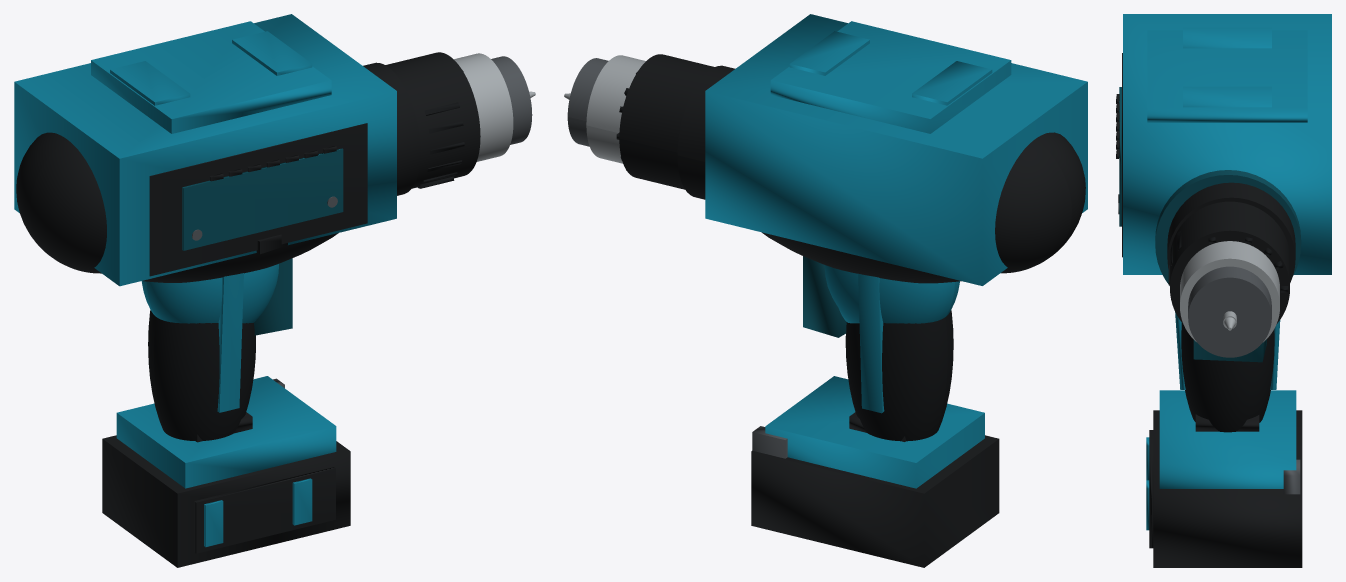
File: cordless electric drill.glb
The picture shows the model from 3 angles, left to right: view 1: azimuth 30°, elevation 25°; view 2: azimuth 150°, elevation 25°; view 3: azimuth 270°, elevation 25°; orthographic projection.
Parts seen in each view (by area): view 1: Blue_Main_Shell, Top_Ridge, Battery_Pack, Battery_Top, Side_Black_Panel, Side_Decorative_Panel, Main_Handle, Rear_Housing, Keyless_Chuck, Battery_Front_Panel, Handle_Neck, Metal_Chuck_Collar (+9 smaller); view 2: Blue_Main_Shell, Battery_Pack, Top_Ridge, Battery_Top, Main_Handle, Rear_Housing, Keyless_Chuck, Handle_Neck, Metal_Chuck_Collar, Torque_Ring, Handle_Blue_Strip, Main_Motor_Housing (+5 smaller); view 3: Blue_Main_Shell, Battery_Pack, Top_Ridge, Battery_Top, Chuck_Tip_Ring, Main_Handle, Keyless_Chuck, Metal_Chuck_Collar, Torque_Ring_Blue, Torque_Ring, Top_Mount, Top_Mount.001 (+7 smaller).
Part boxes in pixels (x1,y1,x2,y2): Blue_Main_Shell: [14, 14, 396, 286]; Top_Ridge: [91, 21, 331, 133]; Battery_Pack: [102, 435, 350, 567]; Battery_Top: [116, 376, 336, 488]; Side_Black_Panel: [149, 123, 367, 276]; Side_Decorative_Panel: [182, 148, 343, 250]; Main_Handle: [148, 310, 255, 440]; Rear_Housing: [16, 132, 106, 273]; Keyless_Chuck: [385, 52, 480, 188]; Battery_Front_Panel: [194, 467, 335, 553]; Handle_Neck: [141, 264, 278, 323]; Metal_Chuck_Collar: [454, 53, 513, 161]; Blue_Main_Shell: [705, 14, 1087, 285]; Battery_Pack: [751, 435, 999, 567]; Top_Ridge: [770, 21, 1011, 133]; Battery_Top: [765, 376, 984, 488]; Main_Handle: [845, 310, 953, 441]; Rear_Housing: [995, 132, 1085, 273]; Keyless_Chuck: [619, 54, 714, 189]; Handle_Neck: [824, 265, 959, 323]; Metal_Chuck_Collar: [586, 55, 645, 163]; Torque_Ring: [677, 65, 735, 199]; Handle_Blue_Strip: [858, 273, 884, 413]; Main_Motor_Housing: [762, 232, 961, 283]; Blue_Main_Shell: [1123, 14, 1331, 274]; Battery_Pack: [1153, 410, 1302, 567]; Top_Ridge: [1147, 30, 1307, 122]; Battery_Top: [1159, 390, 1296, 488]; Chuck_Tip_Ring: [1188, 266, 1271, 357]; Main_Handle: [1181, 322, 1274, 432]; Keyless_Chuck: [1170, 201, 1289, 324]; Metal_Chuck_Collar: [1180, 241, 1279, 342]; Torque_Ring_Blue: [1155, 170, 1301, 285]; Torque_Ring: [1167, 182, 1295, 282]; Top_Mount: [1183, 27, 1271, 48]; Top_Mount.001: [1183, 86, 1271, 107].
Size of the model in its own units: 4.56 by 3.93 by 1.7.
